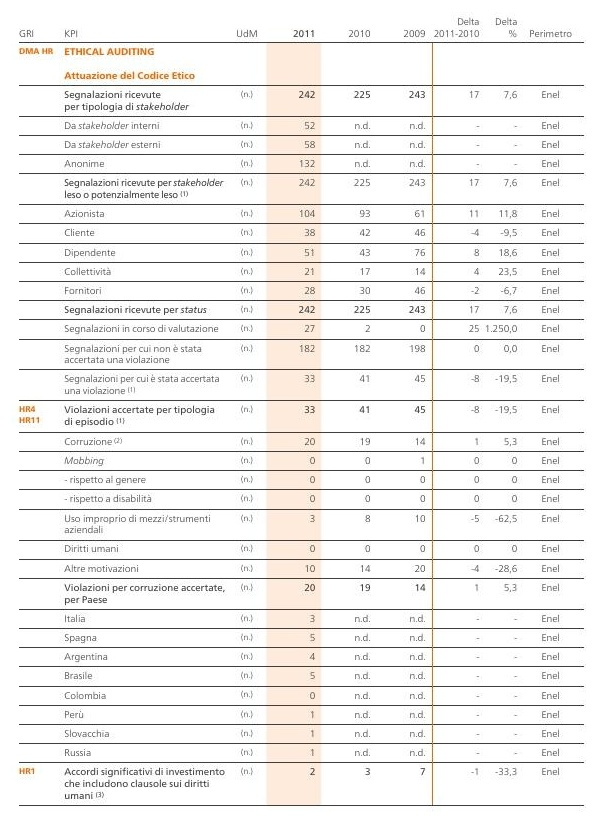table: (0, 0, 602, 820)
